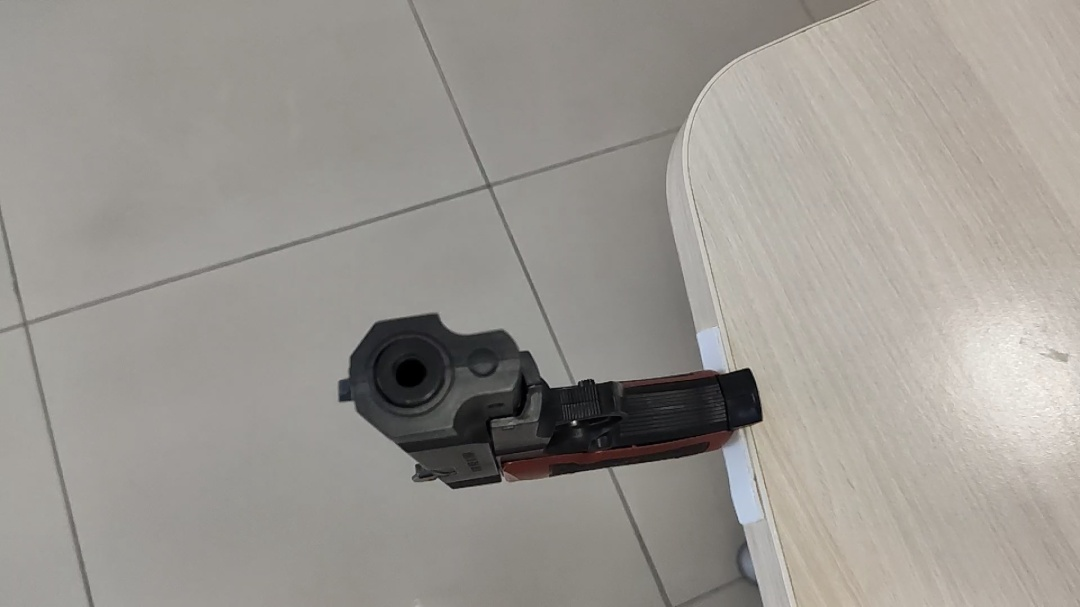gun: (338, 315, 766, 490)
